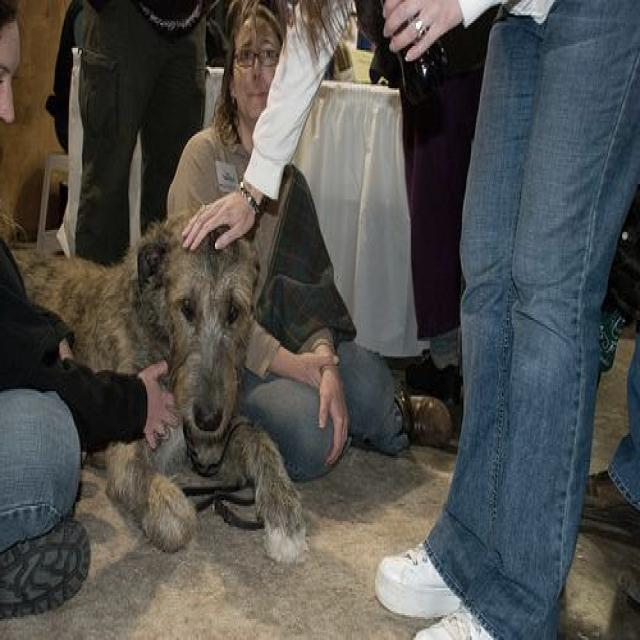irish_wolfhound: (8, 205, 308, 565)
